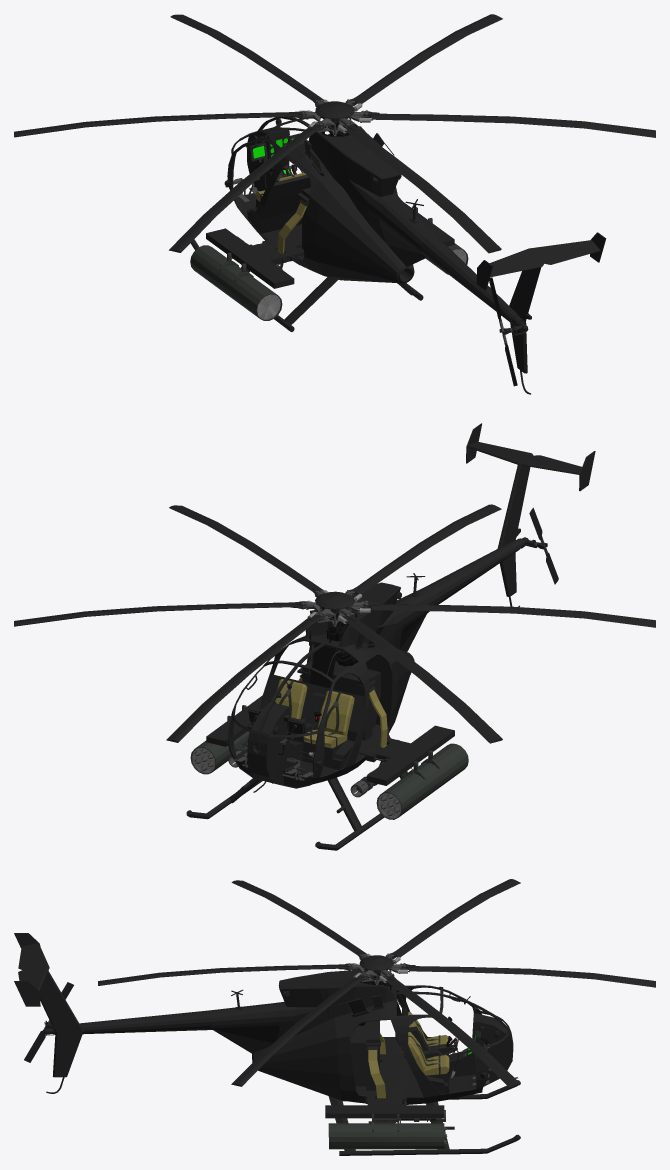
File: little-bird.glb
3 views of the same model, one above another, from view 1: azimuth 30°, elevation 25°; view 2: azimuth 150°, elevation 25°; view 3: azimuth 270°, elevation 25° (orthographic). The views are drawn at different scales.
Parts seen in each view (by area): view 1: base, main-rotor; view 2: base, main-rotor; view 3: base, main-rotor, tail-rotor.
Part boxes in pixels (left/top/right/bottom): base: left=190, top=117, right=606, bottom=394; main-rotor: left=14, top=14, right=655, bottom=253; base: left=186, top=423, right=595, bottom=850; main-rotor: left=14, top=504, right=655, bottom=743; base: left=14, top=933, right=520, bottom=1155; main-rotor: left=98, top=879, right=655, bottom=1087; tail-rotor: left=24, top=982, right=73, bottom=1062.
Bounding box in the file's own units: 8.42 × 3.29 × 11.
Materials: 8 (8 with a texture image).
